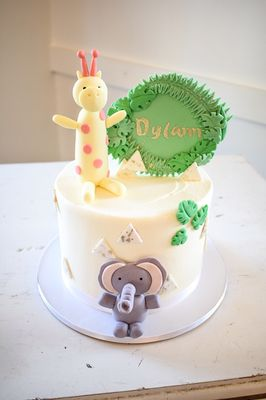curry: (0, 156, 266, 399)
sushi: (49, 45, 234, 328)
